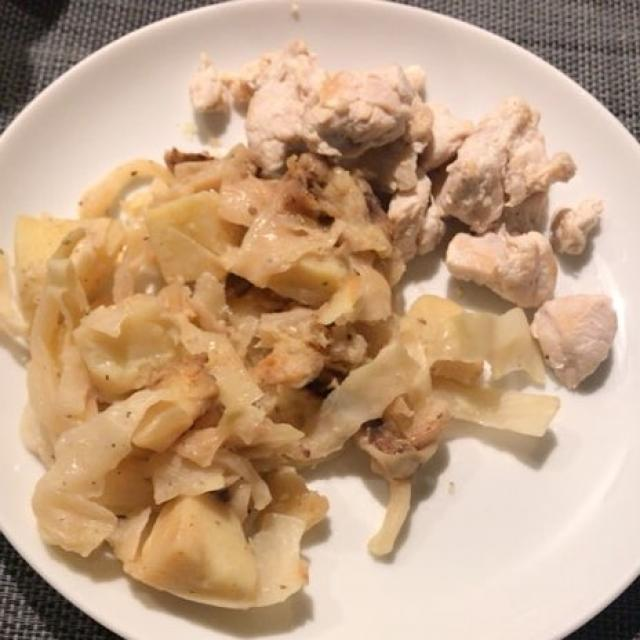cabbage: (22, 148, 570, 610)
chicken: (190, 60, 623, 383)
potatoes: (14, 186, 372, 598)
